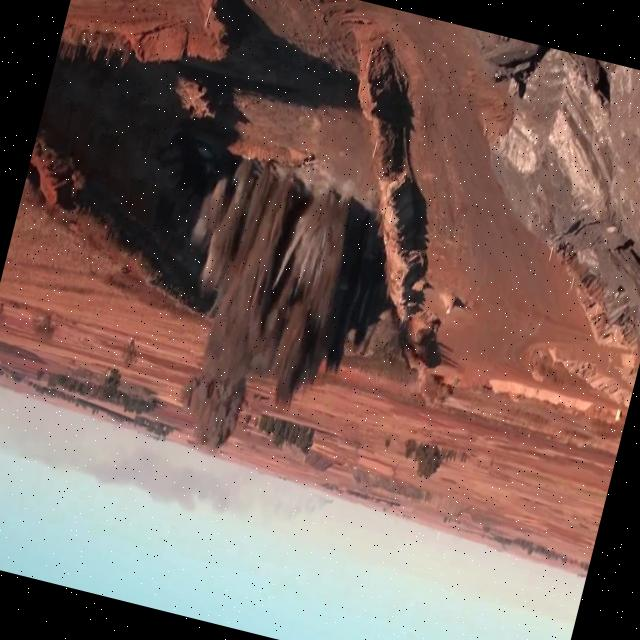explosion: (97, 92, 430, 526)
